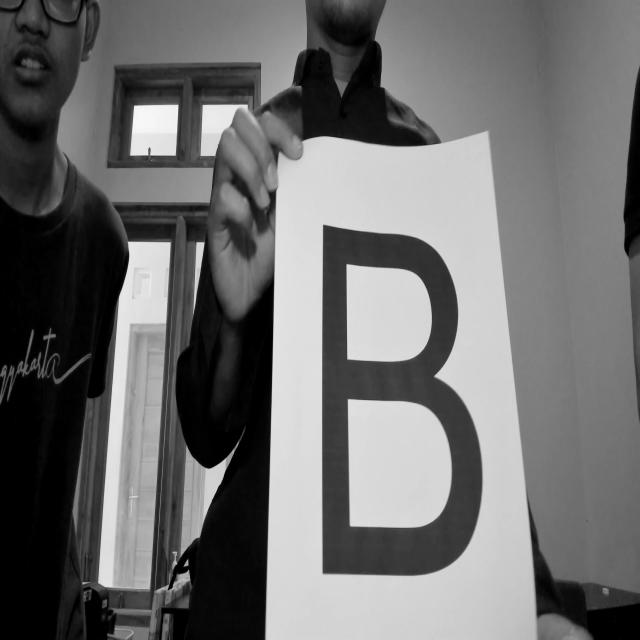b: (307, 200, 494, 587)
